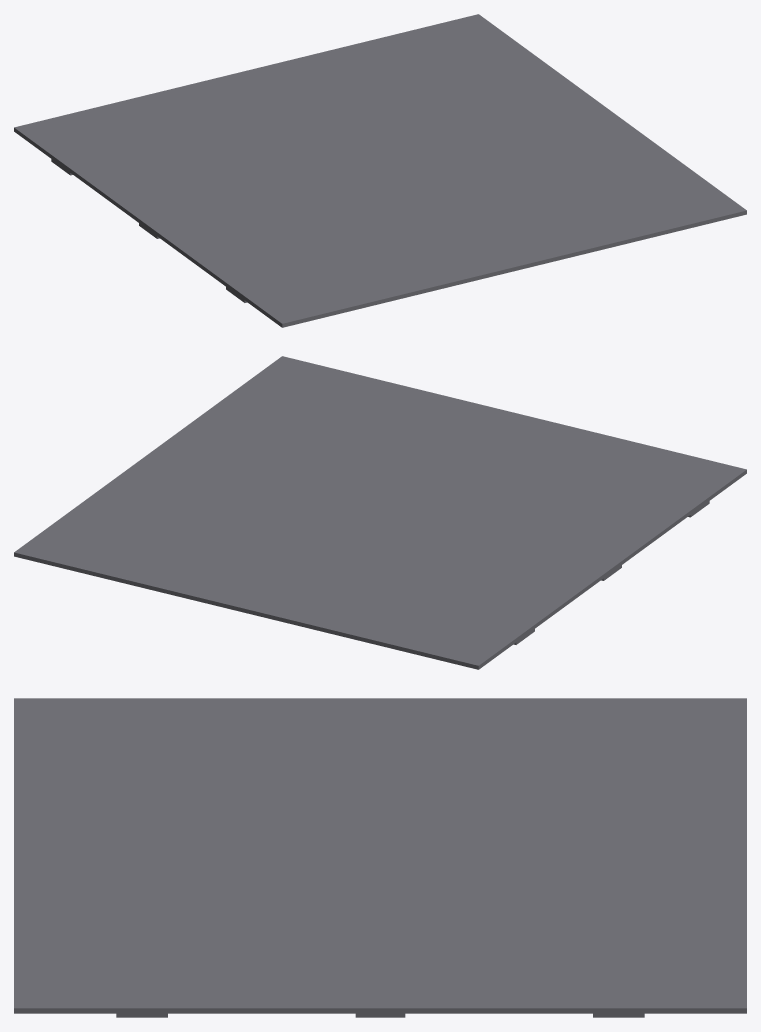
The model's file is parkinghouse_roof1.fbx.
3 renders of one model, top to bottom at view 1: azimuth 30°, elevation 25°; view 2: azimuth 150°, elevation 25°; view 3: azimuth 270°, elevation 25°, orthographic. The views are drawn at different scales.
Visible parts, largest first — view 1: parkinghouse_roof1; view 2: parkinghouse_roof1; view 3: parkinghouse_roof1.
Part boxes in pixels (left/top/right/bottom): parkinghouse_roof1: left=14, top=14, right=746, bottom=327; parkinghouse_roof1: left=14, top=356, right=746, bottom=669; parkinghouse_roof1: left=14, top=698, right=746, bottom=1017.
Bounding box in the file's own units: 12 × 0.1674 × 12.
